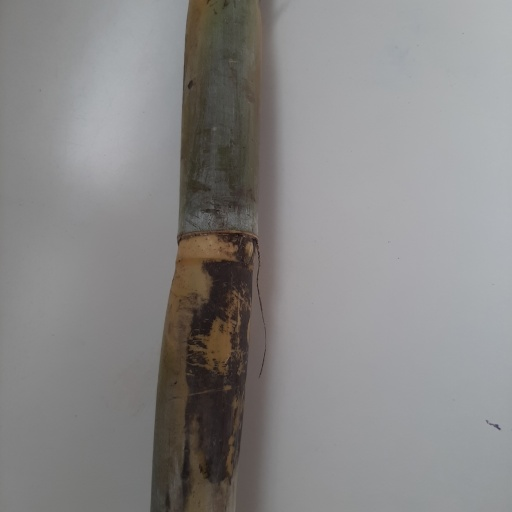Bud: (239, 235, 254, 266)
